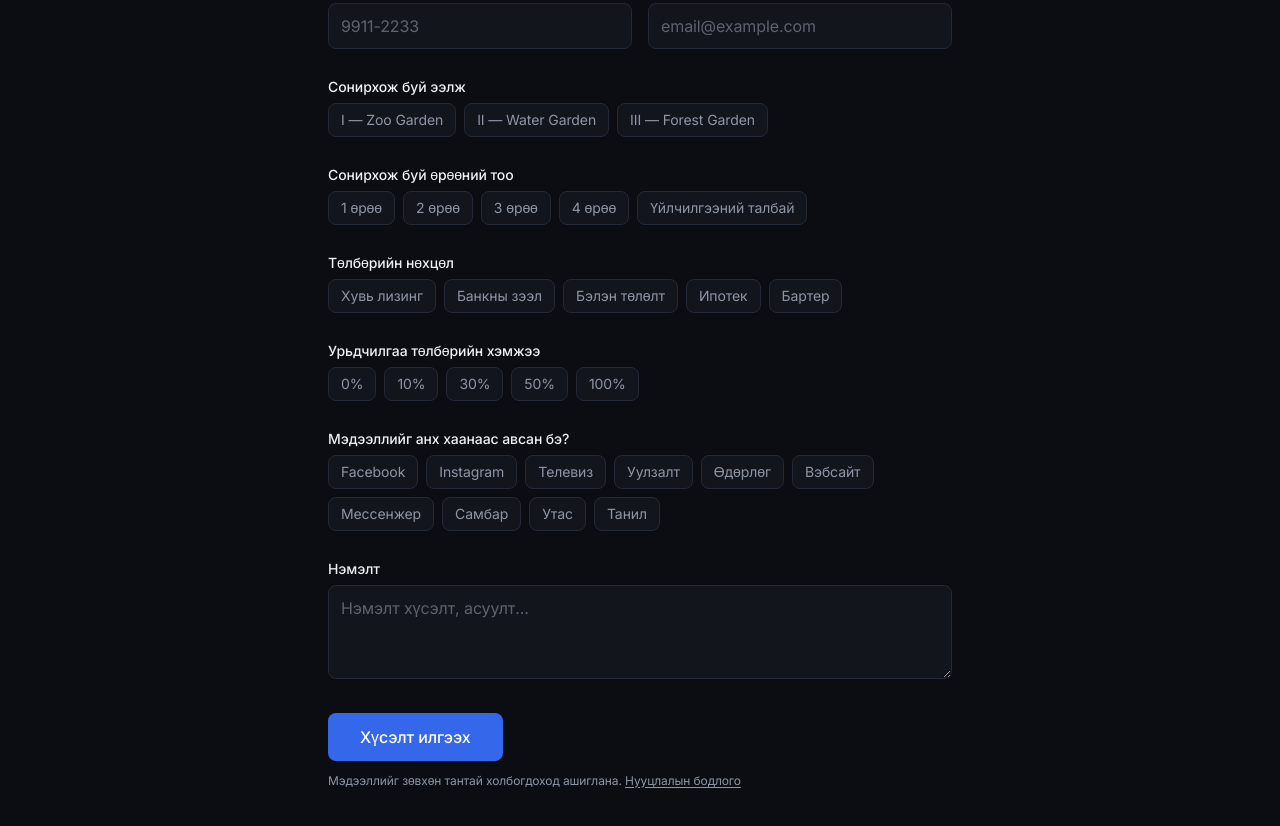
Scenario: public contact form › announces validation and server errors
The image size is (1280, 826).
(page scrolled)
Click the button "Хүсэлт илгээх". click: (415, 736)
box: [328,712,502,760]
(page scrolled)
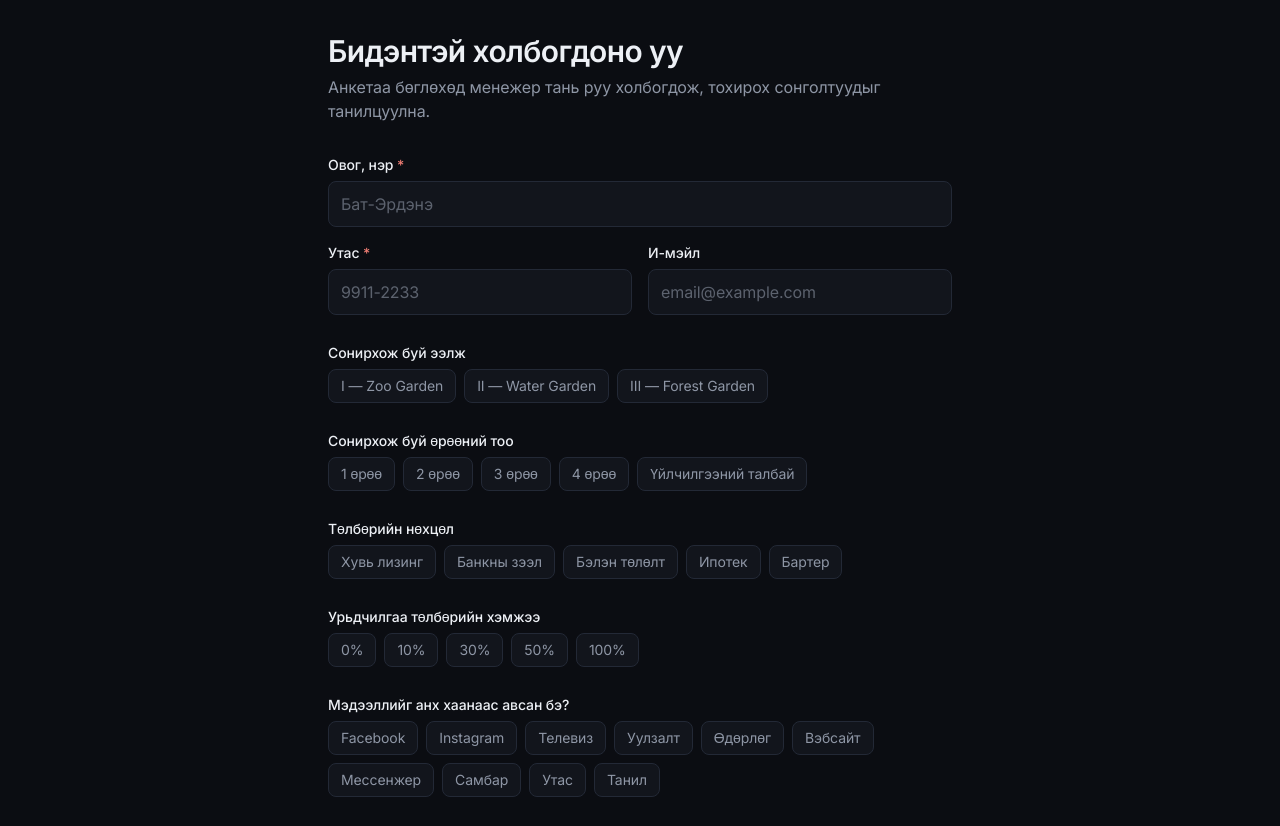
Type "Бат" into the field labelled "Овог, нэр *". click: (640, 204)
box: [328,180,952,226]
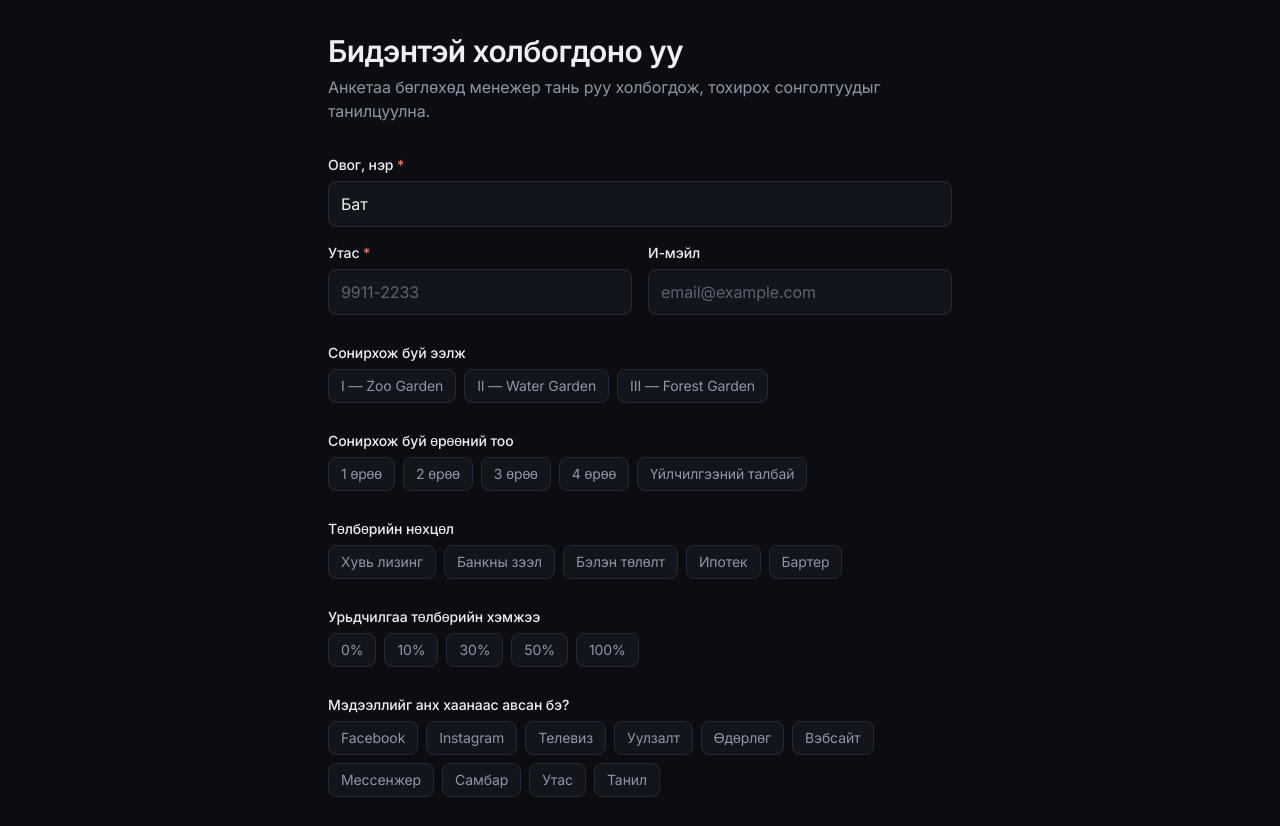
Type "99112233" into the field labelled "Утас *". click: (480, 292)
box: [328,268,632,314]
(page scrolled)
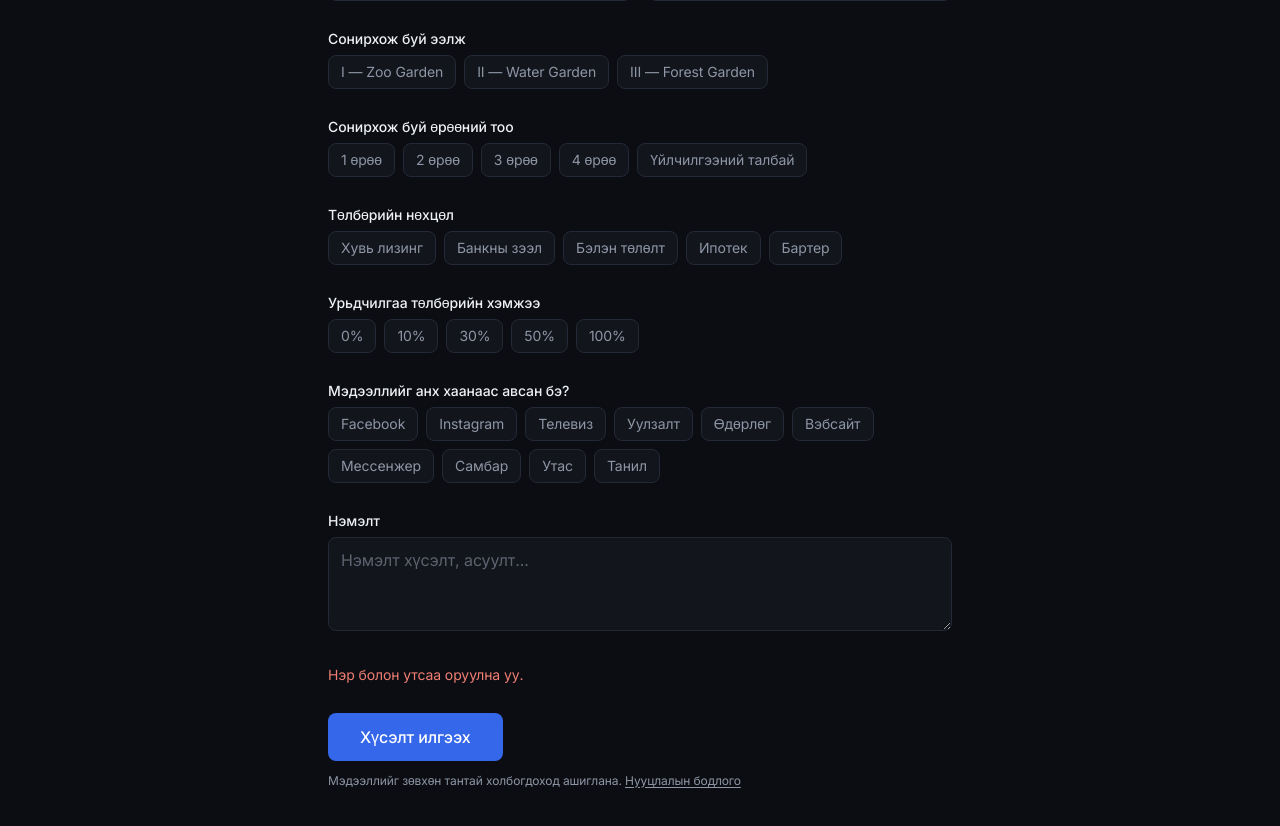
Click the button "Хүсэлт илгээх". click: (415, 736)
box: [328,712,502,760]
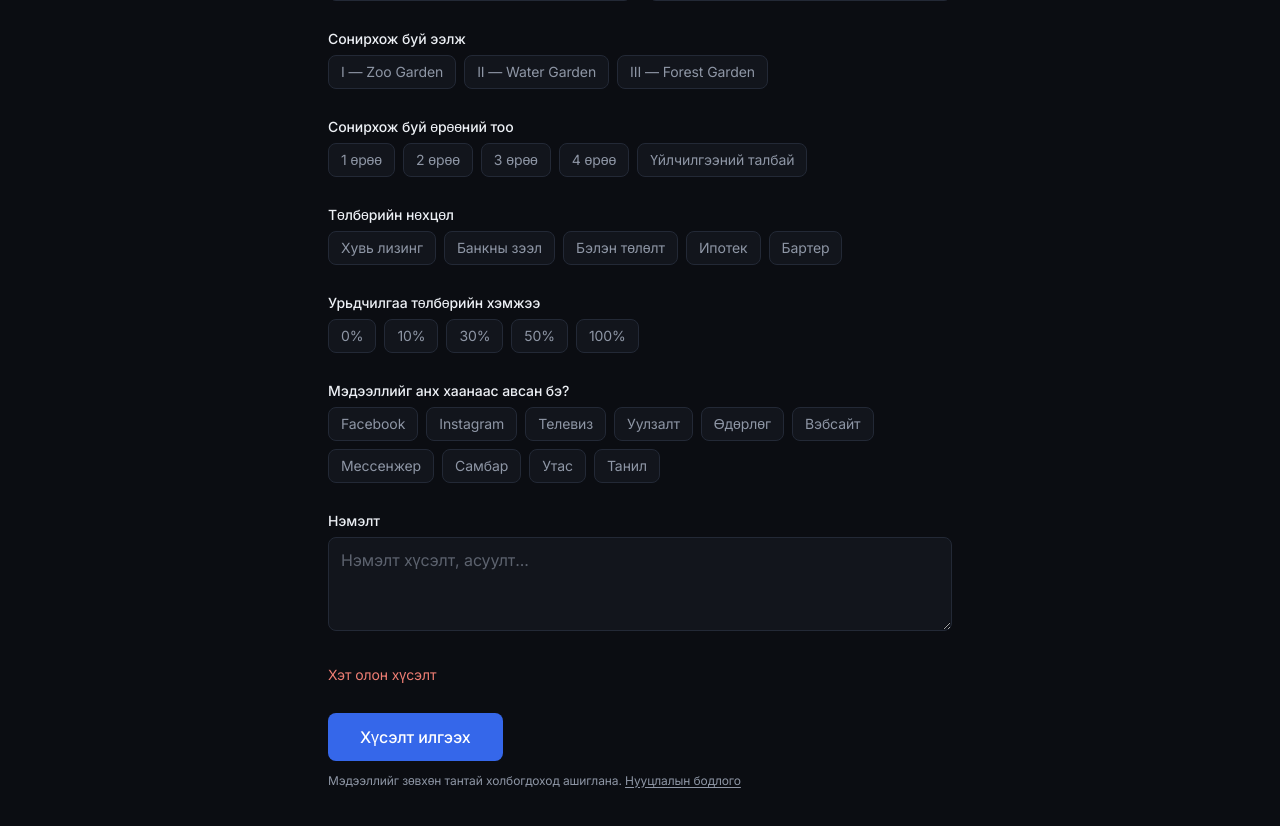
Expected: the message reads "Хэт олон хүсэлт", [328,666,436,682]
